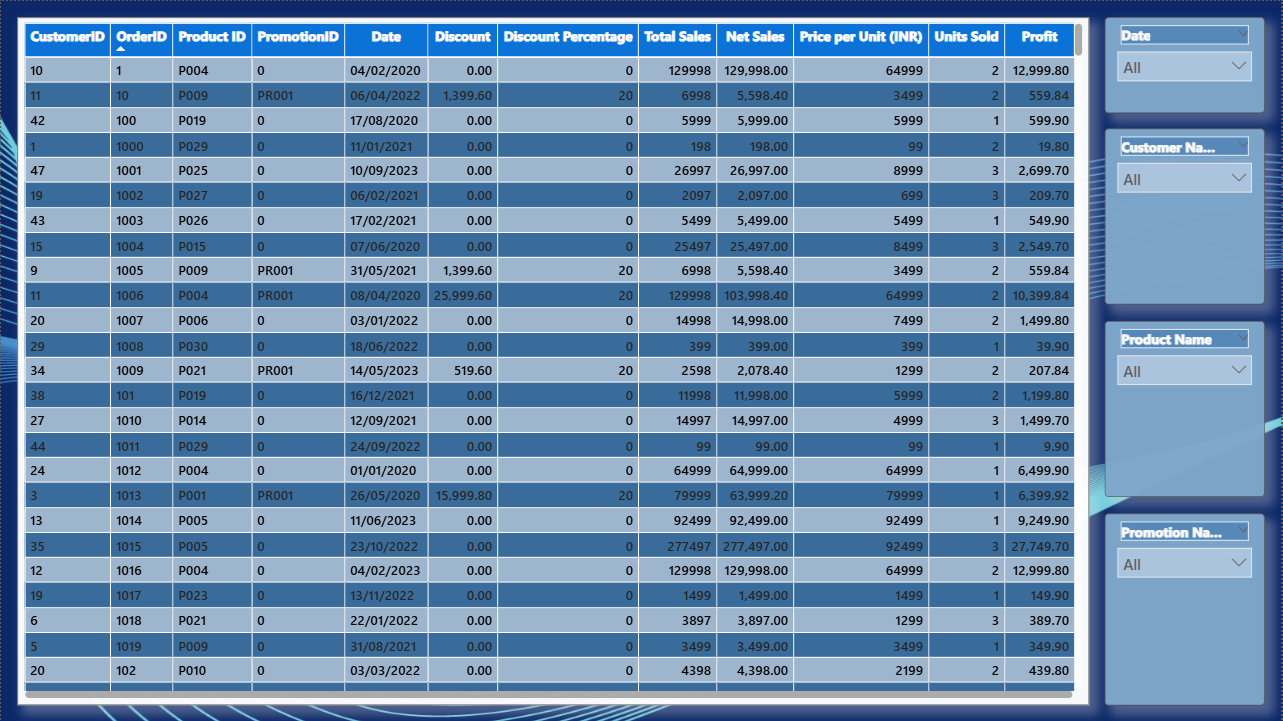

What the dashboard file says about the page in this screenshot:
{"tool":"powerbi","page":{"name":"Table Visual Filter","canvas":[1280,720],"ordinal":3},"visuals":[{"type":"tableEx","fields":{"Values":["Fact Table.CustomerID","Fact Table.OrderID","Fact Table.Product ID","Fact Table.PromotionID","Fact Table.Date (dd/mm/yyyy)","Fact Table.Discount Value","Fact Table.Discount Percentage","Fact Table.Total Sales ","Fact Table.Net Sales ","Fact Table.Price per Unit (INR)","Fact Table.Units Sold","Fact Table.Profit"]},"box":[16,16,1072,688],"z":0},{"type":"slicer","fields":{"Values":["Date Table 1.Date"]},"box":[1104,16,160,96],"z":1000},{"type":"slicer","fields":{"Values":["Dim Customers.Customer Name"]},"box":[1104,128,160,176],"z":2000},{"type":"slicer","fields":{"Values":["Dim Product.Product Name"]},"box":[1104,320,160,176],"z":3000},{"type":"slicer","fields":{"Values":["Dim Promotion.Promotion Name"]},"box":[1104,512,160,192],"z":4000}]}

Visuals, with their boxes in screenshot pixels (x1, y1, x2, y2), scaled from the page's 1280x720 canvas onto the 1283x721 screenshot:
tableEx - Fact Table.CustomerID x Fact Table.OrderID: BBox(16, 16, 1091, 705)
slicer - Date Table 1.Date: BBox(1107, 16, 1267, 112)
slicer - Dim Customers.Customer Name: BBox(1107, 128, 1267, 304)
slicer - Dim Product.Product Name: BBox(1107, 320, 1267, 497)
slicer - Dim Promotion.Promotion Name: BBox(1107, 513, 1267, 705)
